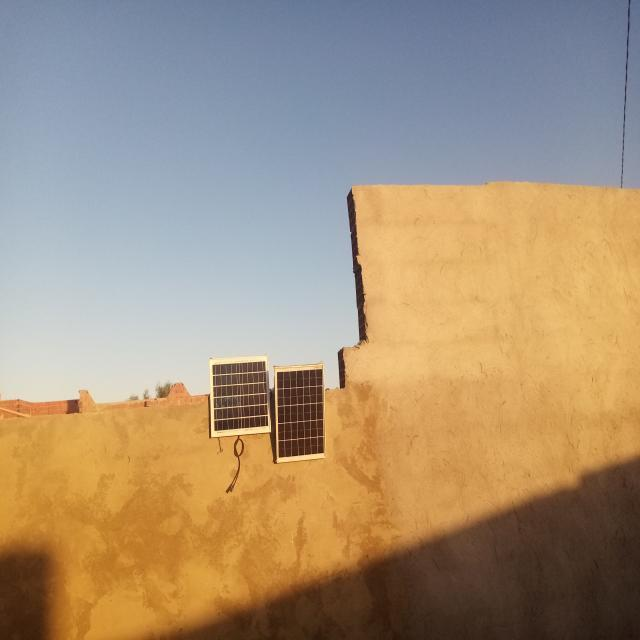no faulty: (274, 365, 326, 464), (210, 356, 272, 438)
